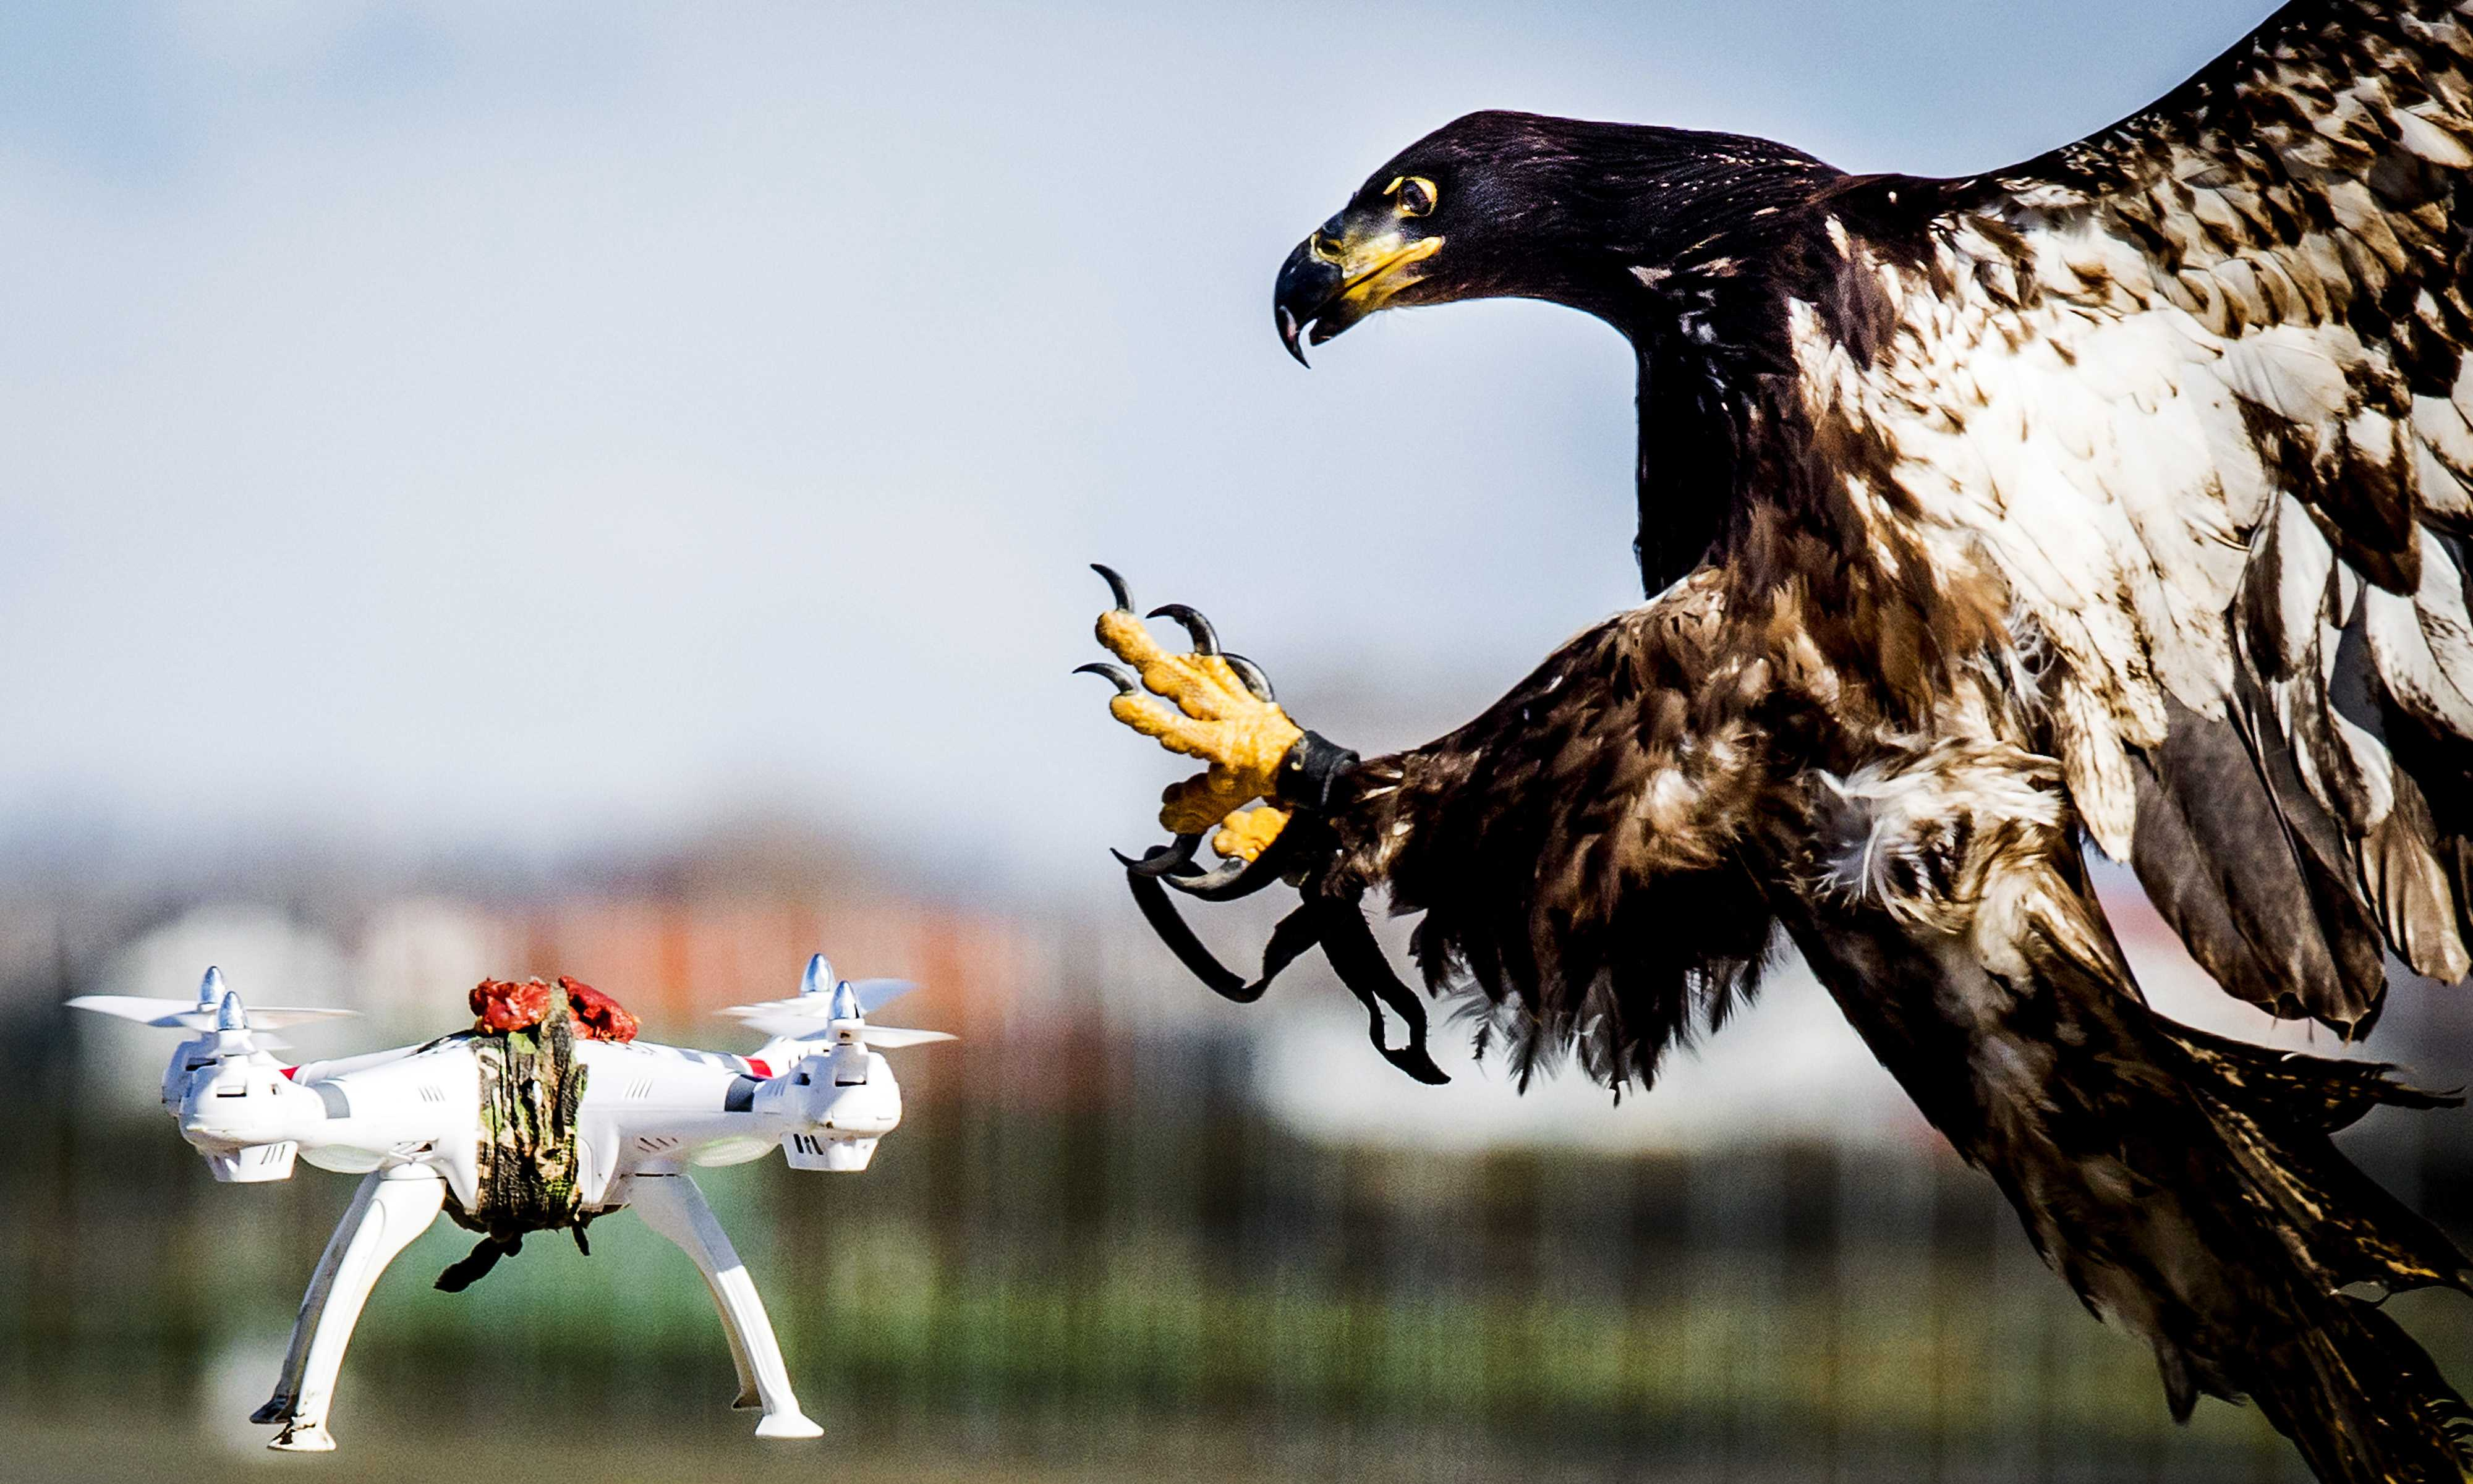Bird: (1058, 5, 2473, 1470)
Drone: (42, 947, 972, 1465)
